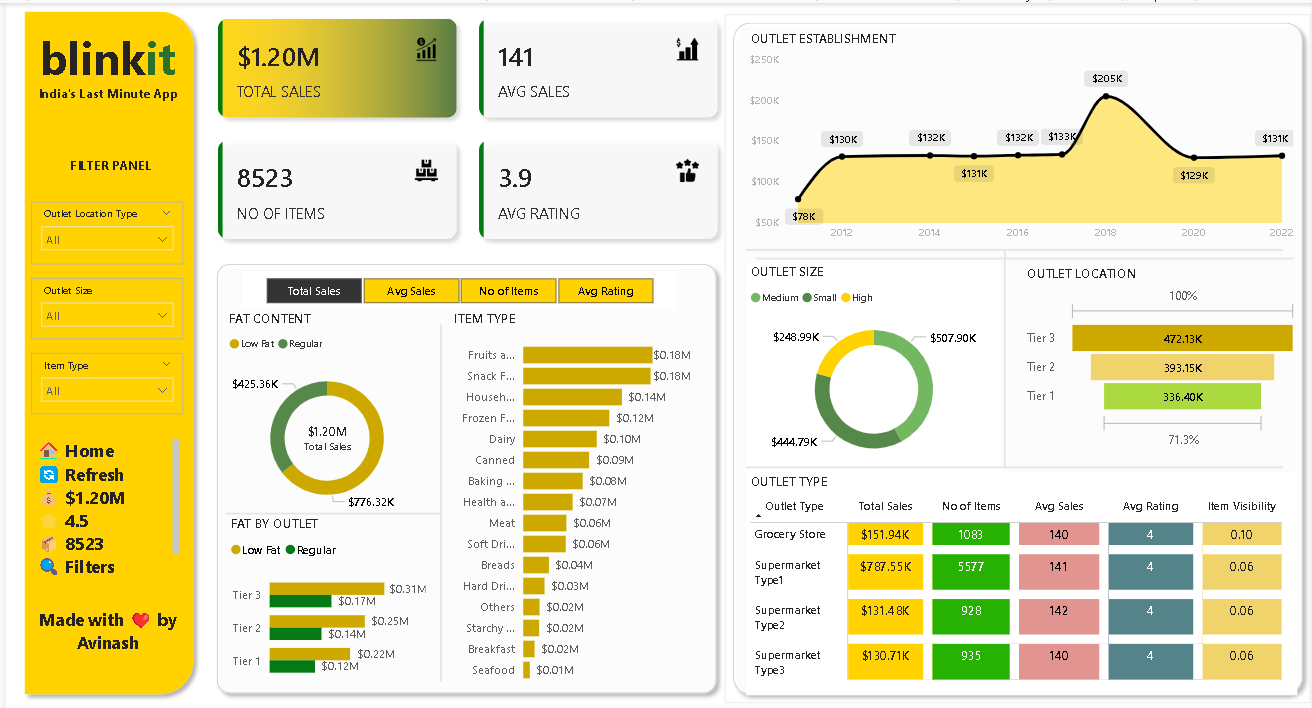

Layout of this report page (visuals, bound fields, positions):
{"tool":"powerbi","page":{"name":"Page 1","canvas":[1400,800],"ordinal":0},"visuals":[{"type":"shape","box":[10.5,0,199.6,750.4],"z":0},{"type":"textbox","box":[27,19.5,163.6,78],"z":1000},{"type":"textbox","box":[22.5,82.5,175.6,28.5],"z":2000},{"type":"cardVisual","fields":{"Data":["BlinkIT Grocery Data.Total Sales","BlinkIT Grocery Data.Avg Sales","BlinkIT Grocery Data.No of Items","BlinkIT Grocery Data.Avg Rating"]},"box":[210.1,0,570.3,270.2],"z":3000},{"type":"shape","box":[217.2,270.8,553.6,478.6],"z":4000},{"type":"donutChart","title":"FAT CONTENT","fields":{"Y":["BlinkIT Grocery Data.Total Sales"],"Category":["BlinkIT Grocery Data.Item Fat Content"]},"box":[234.6,328.4,219.8,230.6],"z":5000},{"type":"slicer","fields":{"Values":["Metrics.Metrics"]},"box":[253.4,288.2,465.1,40.2],"z":6000},{"type":"cardVisual","fields":{"Data":["BlinkIT Grocery Data.Total Sales"]},"box":[298.9,422.3,92.5,88.5],"z":7000},{"type":"clusteredBarChart","title":"FAT BY OUTLET","fields":{"Y":["BlinkIT Grocery Data.Total Sales"],"Category":["BlinkIT Grocery Data.Outlet Location Type"],"Series":["BlinkIT Grocery Data.Item Fat Content"]},"box":[235.6,547.8,219.1,190.6],"z":8000},{"type":"shape","box":[235.9,536.2,230.6,22.8],"z":9000},{"type":"shape","box":[446.4,344.5,40.2,383.4],"z":10000},{"type":"barChart","title":"ITEM TYPE","fields":{"Y":["BlinkIT Grocery Data.Total Sales"],"Category":["BlinkIT Grocery Data.Item Type"]},"box":[475.9,328.4,262.7,410.2],"z":11000},{"type":"shape","box":[770.8,12.1,628.7,738.6],"z":12000},{"type":"lineChart","title":"OUTLET ESTABLISHMENT","fields":{"Y":["BlinkIT Grocery Data.Total Sales"],"Category":["BlinkIT Grocery Data.Outlet Establishment Year"]},"box":[794,28.5,592,235],"z":13000},{"type":"shape","box":[794,258.1,576.3,12],"z":14000},{"type":"donutChart","title":"OUTLET SIZE","fields":{"Y":["BlinkIT Grocery Data.Total Sales"],"Category":["BlinkIT Grocery Data.Outlet Size"]},"box":[794,279.2,274.7,225.1],"z":15000},{"type":"shape","box":[1052.1,264.2,37.5,234.1],"z":16000},{"type":"funnel","title":"OUTLET LOCATION","fields":{"Category":["BlinkIT Grocery Data.Outlet Location Type"],"Y":["Sum(BlinkIT Grocery Data.Sales)"]},"box":[1089.6,280.7,300.2,202.6],"z":17000},{"type":"shape","box":[794,492.3,576.3,12],"z":18000},{"type":"pivotTable","title":"OUTLET TYPE","fields":{"Rows":["BlinkIT Grocery Data.Outlet Type"],"Values":["BlinkIT Grocery Data.Total Sales","BlinkIT Grocery Data.No of Items","BlinkIT Grocery Data.Avg Sales","BlinkIT Grocery Data.Avg Rating","Avg(BlinkIT Grocery Data.Item Visibility)"]},"box":[794,504.3,591.3,238.6],"z":19000},{"type":"slicer","fields":{"Values":["BlinkIT Grocery Data.Outlet Location Type"]},"box":[26.8,213.1,163.5,67],"z":20000},{"type":"shape","box":[804,268.1,576.3,12],"z":21000},{"type":"slicer","fields":{"Values":["BlinkIT Grocery Data.Outlet Size"]},"box":[26.8,294.9,163.5,65.7],"z":22000},{"type":"slicer","fields":{"Values":["BlinkIT Grocery Data.Item Type"]},"box":[26.8,375.3,163.5,65.7],"z":23000},{"type":"textbox","box":[36.2,159.5,154.2,44.2],"z":24000},{"type":"textbox","box":[28.2,462.5,163.5,160.9],"z":25000},{"type":"textbox","box":[28.2,643.4,162.2,63],"z":26000}]}

Visuals, with their boxes on the page's 1400x800 design canvas (x1, y1, x2, y2). These are canvas units, not pixel positions in the 1312x708 screenshot, which may show the page scaled, cropped or inside an application window:
shape: x1=10 y1=0 x2=210 y2=750
textbox: x1=27 y1=20 x2=191 y2=98
textbox: x1=22 y1=82 x2=198 y2=111
cardVisual - BlinkIT Grocery Data.Total Sales x BlinkIT Grocery Data.Avg Sales: x1=210 y1=0 x2=780 y2=270
shape: x1=217 y1=271 x2=771 y2=749
"FAT CONTENT" donutChart: x1=235 y1=328 x2=454 y2=559
slicer - Metrics.Metrics: x1=253 y1=288 x2=718 y2=328
cardVisual - BlinkIT Grocery Data.Total Sales: x1=299 y1=422 x2=391 y2=511
"FAT BY OUTLET" clusteredBarChart: x1=236 y1=548 x2=455 y2=738
shape: x1=236 y1=536 x2=466 y2=559
shape: x1=446 y1=344 x2=487 y2=728
"ITEM TYPE" barChart: x1=476 y1=328 x2=739 y2=739
shape: x1=771 y1=12 x2=1400 y2=751
"OUTLET ESTABLISHMENT" lineChart: x1=794 y1=28 x2=1386 y2=264
shape: x1=794 y1=258 x2=1370 y2=270
"OUTLET SIZE" donutChart: x1=794 y1=279 x2=1069 y2=504
shape: x1=1052 y1=264 x2=1090 y2=498
"OUTLET LOCATION" funnel: x1=1090 y1=281 x2=1390 y2=483
shape: x1=794 y1=492 x2=1370 y2=504
"OUTLET TYPE" pivotTable: x1=794 y1=504 x2=1385 y2=743
slicer - BlinkIT Grocery Data.Outlet Location Type: x1=27 y1=213 x2=190 y2=280
shape: x1=804 y1=268 x2=1380 y2=280
slicer - BlinkIT Grocery Data.Outlet Size: x1=27 y1=295 x2=190 y2=361
slicer - BlinkIT Grocery Data.Item Type: x1=27 y1=375 x2=190 y2=441
textbox: x1=36 y1=160 x2=190 y2=204
textbox: x1=28 y1=462 x2=192 y2=623
textbox: x1=28 y1=643 x2=190 y2=706
